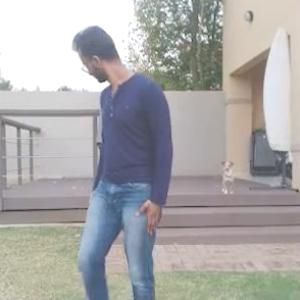follow: (60, 8, 164, 270)
